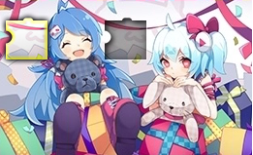gap: (105, 18, 147, 59)
